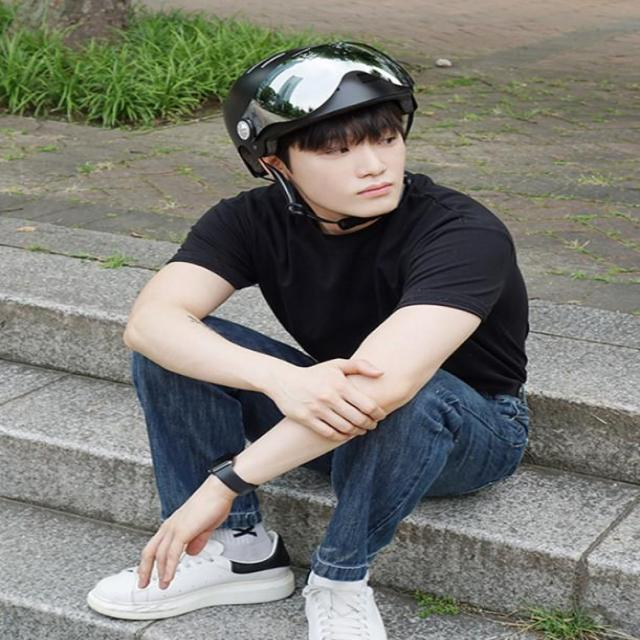Helmet: (222, 42, 420, 222)
